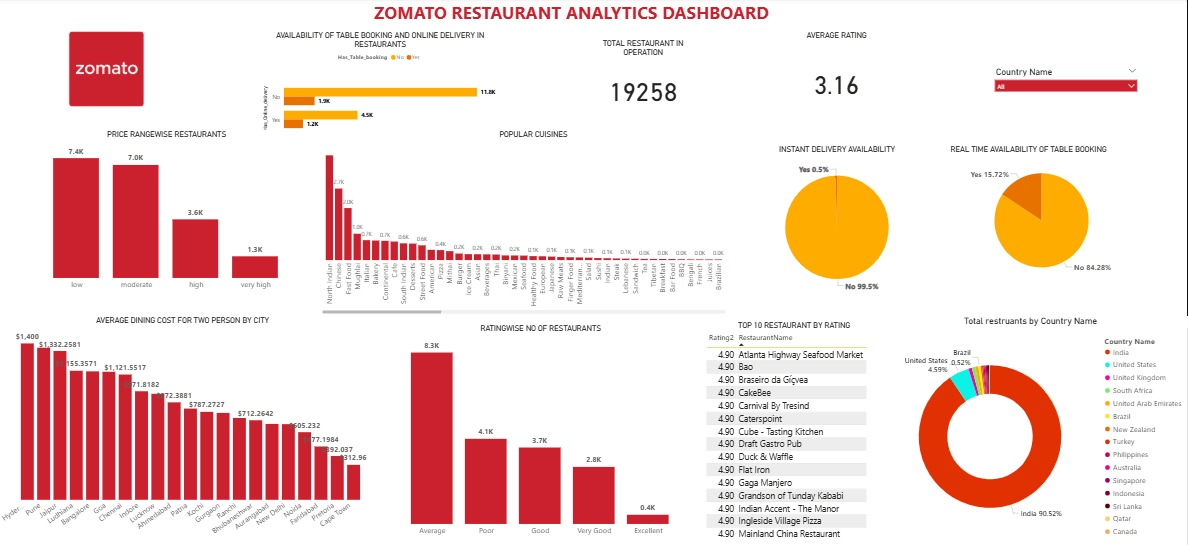

This screenshot's page, from the dashboard's own definition file:
{"tool":"powerbi","page":{"name":"ZOMATO SHEET","canvas":[2600,1200],"ordinal":0},"visuals":[{"type":"card","title":"TOTAL RESTAURANT IN OPERATION","fields":{"Values":["Zomato.total restruants"]},"box":[1278.5,89.5,266.2,178.9],"z":0},{"type":"card","title":"AVERAGE RATING","fields":{"Values":["Avg(Zomato.Rating2)"]},"box":[1710.5,72,246.5,205.1],"z":1000},{"type":"textbox","box":[0,0,2023.7,72],"z":2000},{"type":"clusteredColumnChart","title":"MOST POPULAR CUISINES ","fields":{"Category":["Cuisines.Cuisines"],"Y":["CountNonNull(Zomato.RestaurantID)"]},"box":[700.4,288,896.7,405.8],"z":3000},{"type":"clusteredBarChart","title":"AVAILABILITY OF TABLE BOOKING AND ONLINE DELIVERY IN RESTAURANTS","fields":{"Y":["CountNonNull(Zomato.RestaurantName)"],"Category":["Zomato.Has_Online_delivery"],"Series":["Zomato.Has_Table_booking"]},"box":[578.2,72,519.3,264],"z":4000},{"type":"clusteredColumnChart","title":"AVERAGE DINING COST FOR TWO PERSON BY CITY","fields":{"Category":["Zomato.Cities"],"Y":["Avg(Zomato.Average_Cost_for_two)"]},"box":[0,693.8,813.8,504],"z":5000},{"type":"pieChart","title":"INSTANT DELIVERY AVAILABILITY","fields":{"Category":["Zomato.Is_delivering_now"],"Y":["CountNonNull(Zomato.Is_delivering_now)"]},"box":[1616.7,320.7,436.4,340.4],"z":6000},{"type":"pieChart","title":"REAL TIME AVAILABILITY OF TABLE BOOKING","fields":{"Y":["CountNonNull(Zomato.Has_Table_booking)"],"Category":["Zomato.Has_Table_booking"]},"box":[2077.1,320.7,408,309.8],"z":7000},{"type":"image","box":[90,41.7,303.3,226.7],"z":8000},{"type":"slicer","fields":{"Values":["Country  Name.Country Name"]},"box":[2168.7,144,331.6,82.9],"z":9000},{"type":"tableEx","title":"TOP 10 RESTAURANT BY RATING","fields":{"Values":["Zomato.Rating2","Zomato.RestaurantName"]},"box":[1544.7,704.7,392.7,482.2],"z":10000},{"type":"clusteredColumnChart","title":"PRICE RANGEWISE RESTAURANTS ","fields":{"Y":["CountNonNull(Zomato.RestaurantID)"],"Category":["Zomato.Price_range2"]},"box":[67.6,288,608.7,357.8],"z":11000},{"type":"clusteredColumnChart","title":"RATINGWISE NO OF RESTAURANTS ","fields":{"Y":["CountNonNull(Zomato.RestaurantID)"],"Category":["Zomato.Rating2.0"]},"box":[853.1,711.3,669.8,471.3],"z":12000},{"type":"donutChart","title":"Total restruants by Country Name","fields":{"Category":["Country  Name.Country Name"],"Y":["Zomato.total restruants"]},"box":[1913.5,693.8,687.3,504],"z":13000}]}

Visuals, with their boxes in screenshot pixels (x1, y1, x2, y2), scaled from the page's 2600x1200 canvas onto the 1188x545 screenshot:
"TOTAL RESTAURANT IN OPERATION" card: box=[584, 41, 706, 122]
"AVERAGE RATING" card: box=[782, 33, 894, 126]
textbox: box=[0, 0, 925, 33]
"MOST POPULAR CUISINES " clusteredColumnChart: box=[320, 131, 730, 315]
"AVAILABILITY OF TABLE BOOKING AND ONLINE DELIVERY IN RESTAURANTS" clusteredBarChart: box=[264, 33, 501, 153]
"AVERAGE DINING COST FOR TWO PERSON BY CITY" clusteredColumnChart: box=[0, 315, 372, 544]
"INSTANT DELIVERY AVAILABILITY" pieChart: box=[739, 146, 938, 300]
"REAL TIME AVAILABILITY OF TABLE BOOKING" pieChart: box=[949, 146, 1135, 286]
image: box=[41, 19, 180, 122]
slicer - Country  Name.Country Name: box=[991, 65, 1142, 103]
"TOP 10 RESTAURANT BY RATING" tableEx: box=[706, 320, 885, 539]
"PRICE RANGEWISE RESTAURANTS " clusteredColumnChart: box=[31, 131, 309, 293]
"RATINGWISE NO OF RESTAURANTS " clusteredColumnChart: box=[390, 323, 696, 537]
"Total restruants by Country Name" donutChart: box=[874, 315, 1187, 544]
